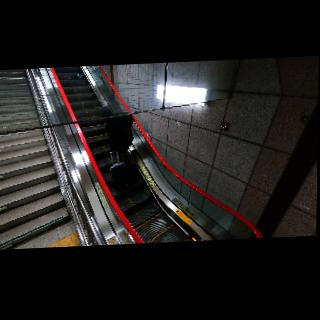normal: (97, 105, 138, 178)
